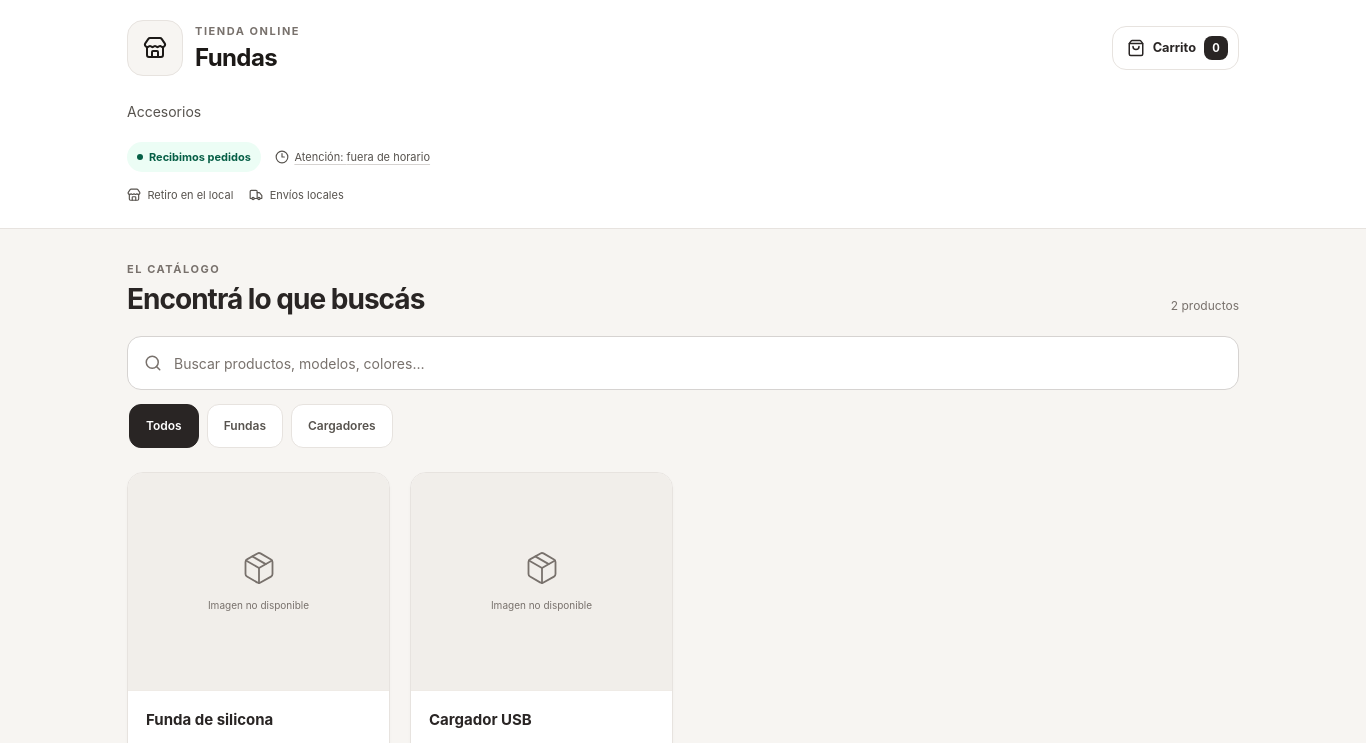
Test: shared catalog storefront › combines category and variant search and clears both filters from the empty state
Check: the message reads "2 productos", box 1171,297 -> 1239,315
Click the button "Cargadores".
click(342, 426)  # box 291,404 -> 393,448
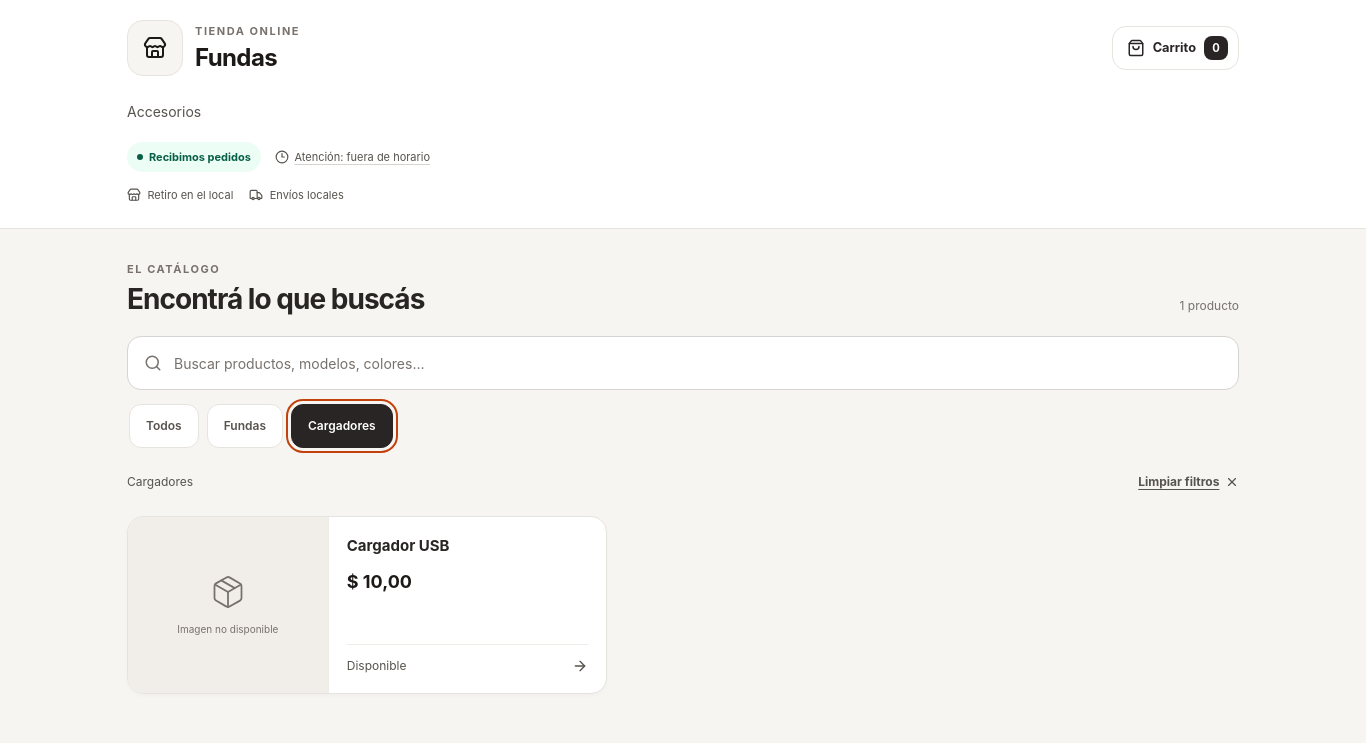
Check: the link "Funda de silicona" is gone
Type "Rojo" into the field labelled "Buscar productos".
click(698, 363); type("Rojo")  # box 174,337 -> 1222,389
(page scrolled)
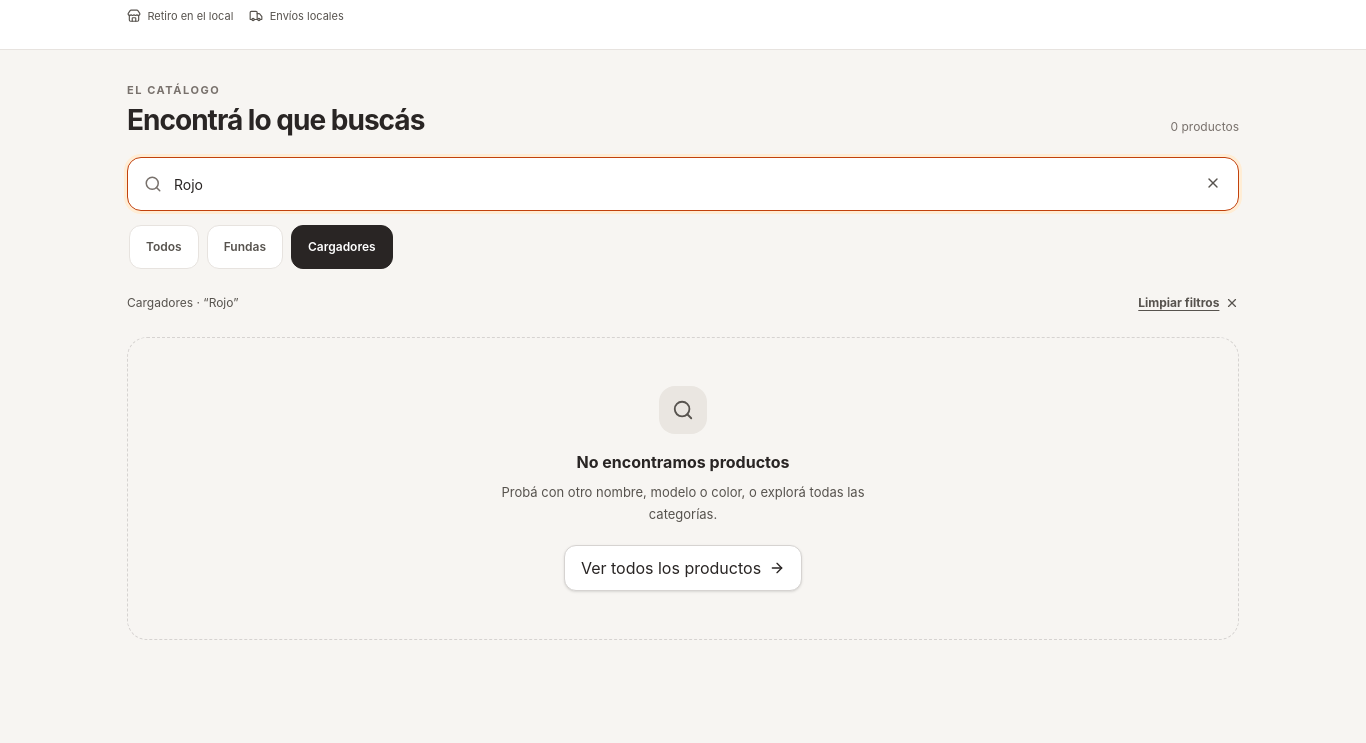
Check: the heading "No encontramos productos" is shown, box 576,452 -> 790,472
Check: the message reads "0 productos", box 1170,118 -> 1239,136
Click the button "Ver todos los productos".
click(683, 568)  # box 564,545 -> 802,591
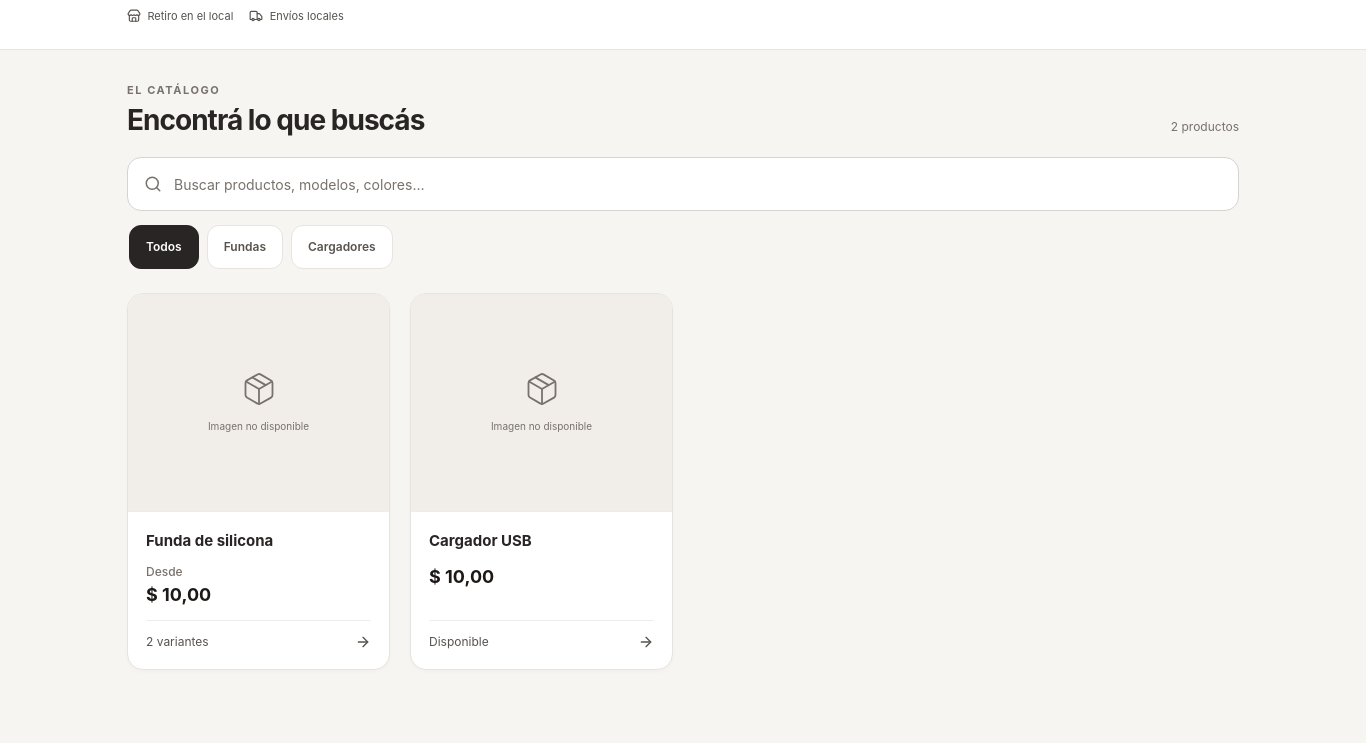
Check: the field labelled "Buscar productos" is empty, box 174,158 -> 1222,210
Check: the heading "Funda de silicona" is shown, box 146,531 -> 273,550
Check: the heading "Cargador USB" is shown, box 429,531 -> 532,550
